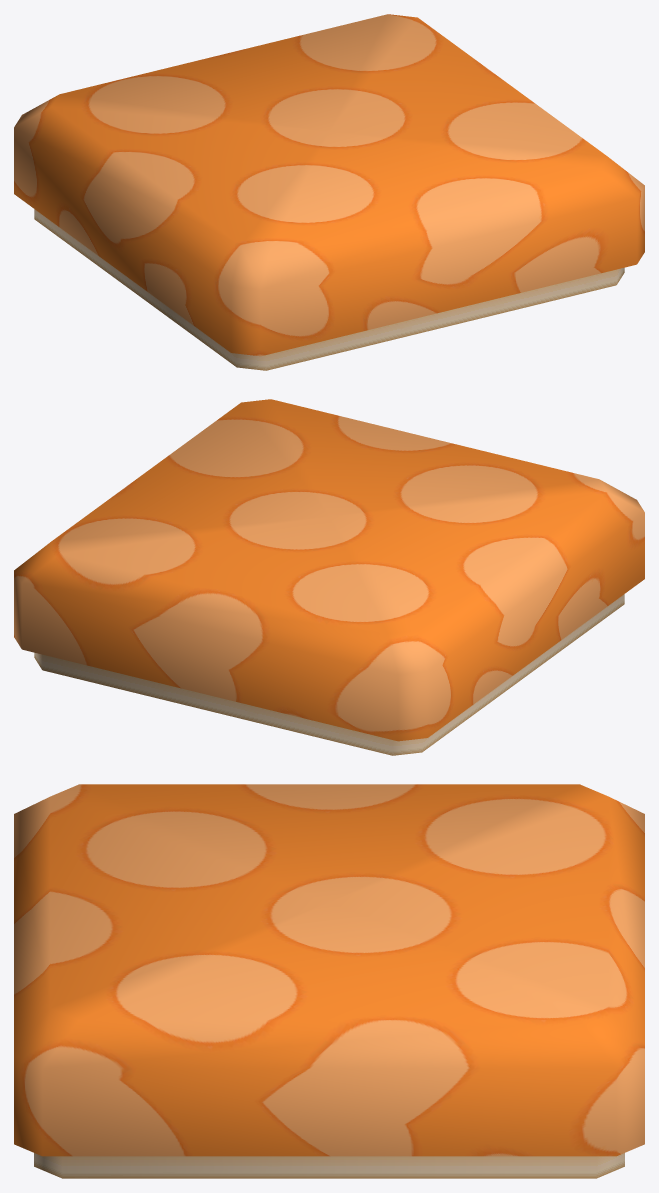
Rendered from TrampolineLow.fbx.
3 views of the same model, one above another, from view 1: azimuth 30°, elevation 25°; view 2: azimuth 150°, elevation 25°; view 3: azimuth 270°, elevation 25° (orthographic). The views are drawn at different scales.
Parts seen in each view (by area): view 1: Cube.001; view 2: Cube.001; view 3: Cube.001.
Part boxes in pixels (left/top/right/bottom): Cube.001: left=14, top=14, right=644, bottom=370; Cube.001: left=14, top=399, right=644, bottom=755; Cube.001: left=14, top=784, right=644, bottom=1178.
Bounding box in the file's own units: 37290 × 9862 × 37290.
Materials: 2 (2 with a texture image).
